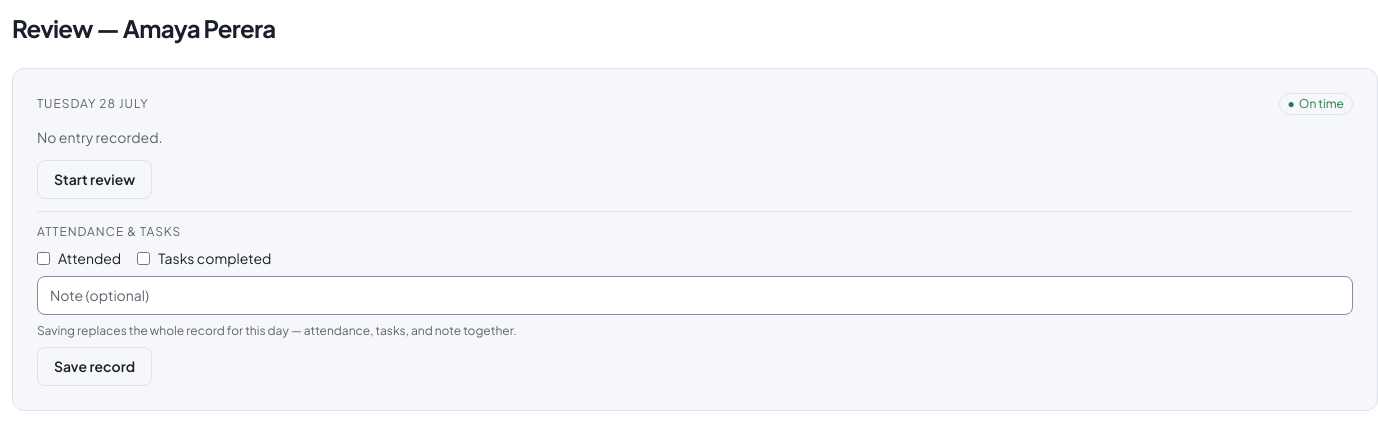
Test case: StudentReviewPage › surfaces the transition action's rejection as role=alert -- the discarded-error shape Task 12's review rejected
Click the button "Start review" at (95, 180), box [37,160,152,199]
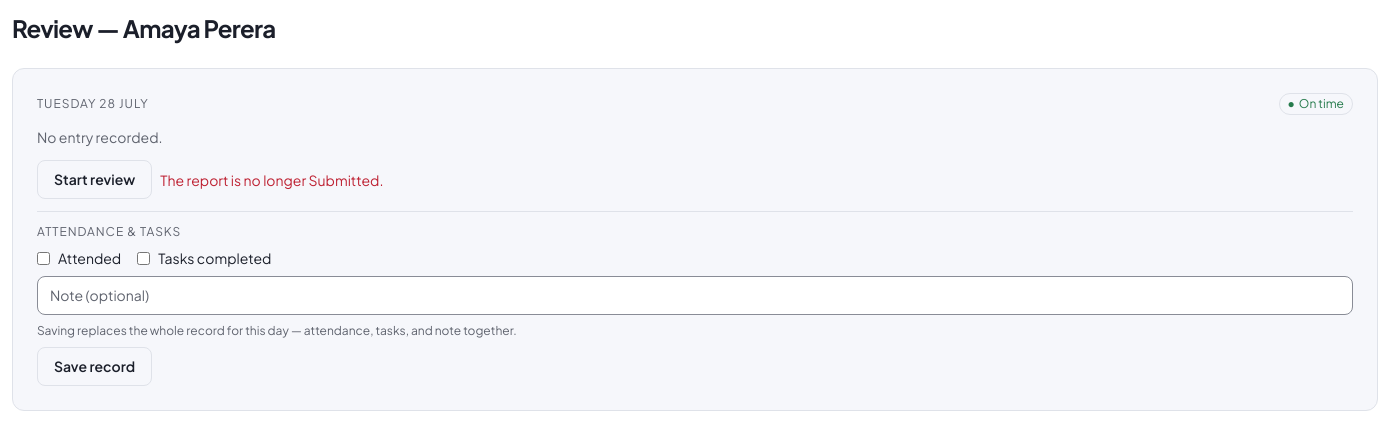
Check: the message reads "The report is no longer Submitted.", box [160,170,383,188]
